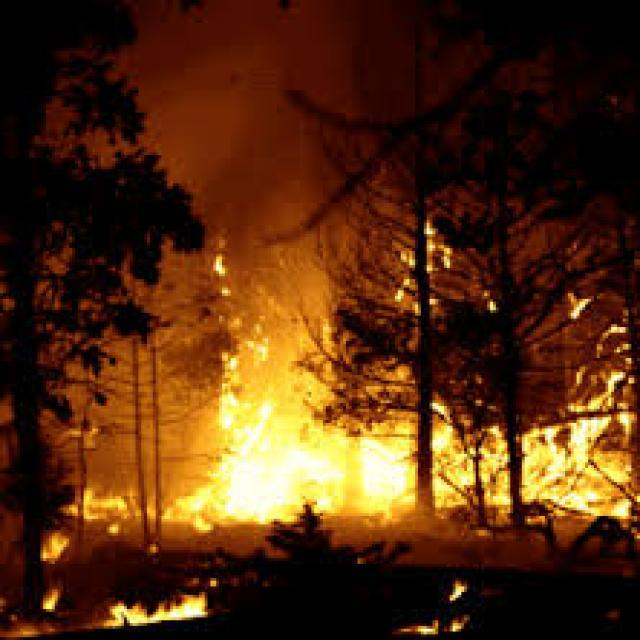Fire: (72, 217, 640, 544), (0, 581, 231, 640), (386, 581, 490, 640), (36, 522, 80, 578)
